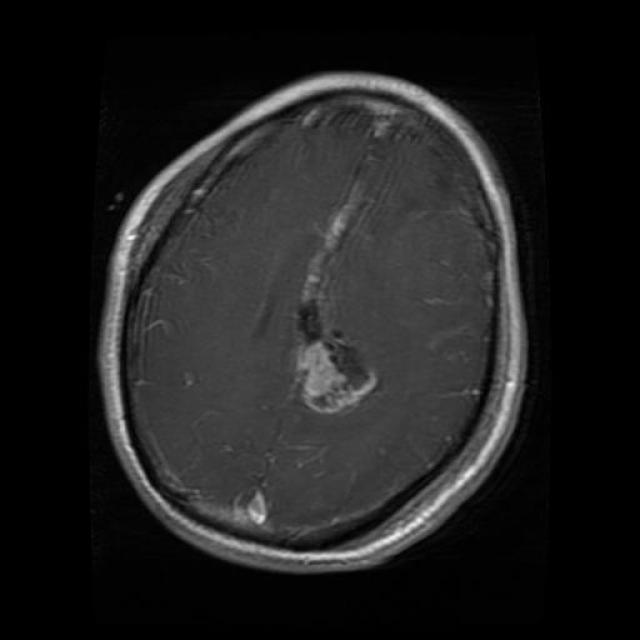glioma: (281, 314, 384, 422)
